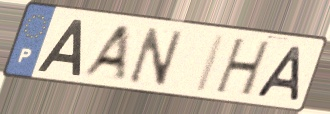A: (77, 24, 133, 81), (251, 44, 304, 103), (34, 17, 84, 77)
H: (211, 37, 274, 100)
I: (191, 31, 230, 95)
N: (126, 24, 186, 88)
